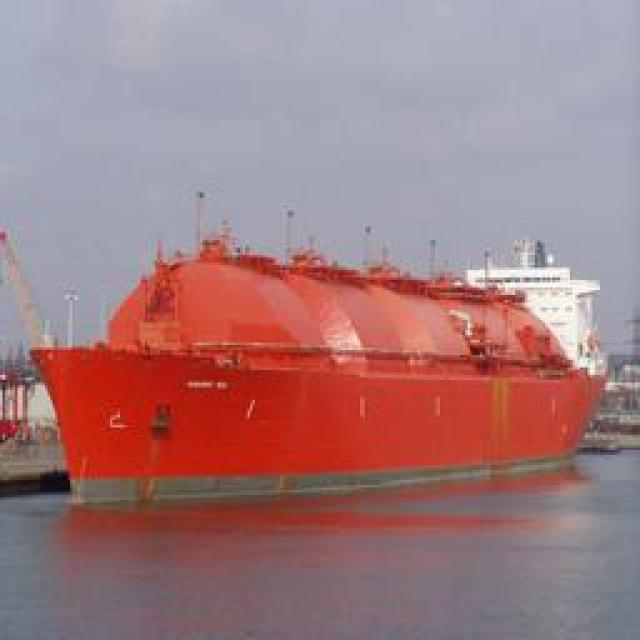Ship: (35, 220, 605, 550)
